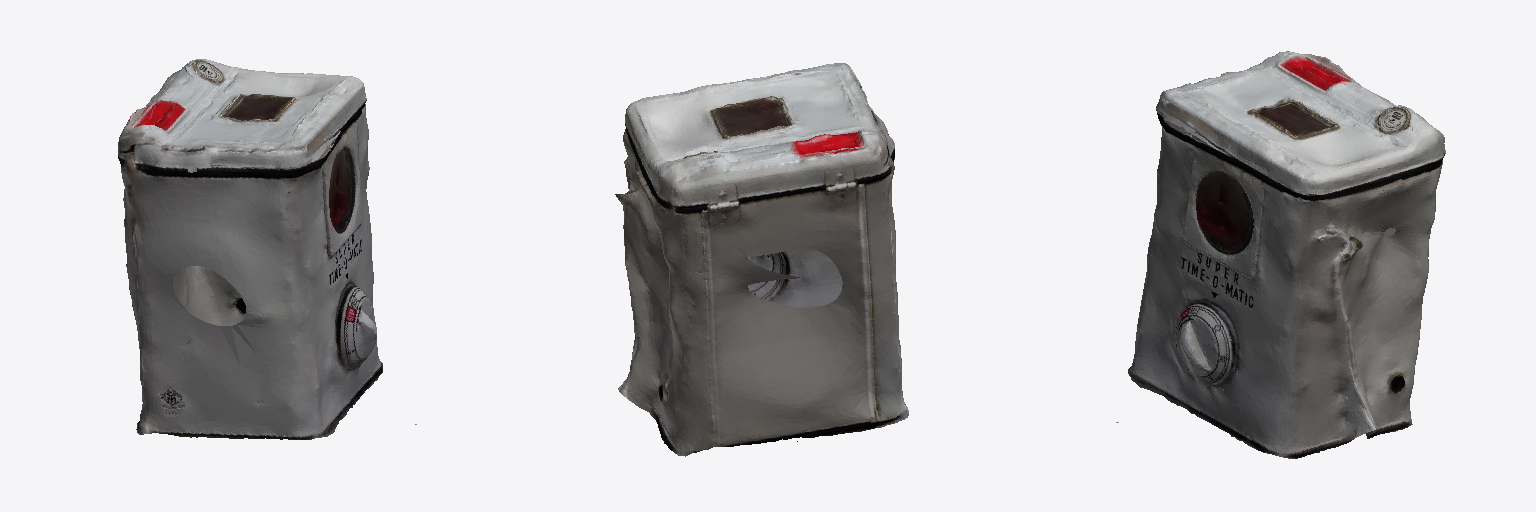
3 views of the same model, side by side, from view 1: azimuth 30°, elevation 25°; view 2: azimuth 150°, elevation 25°; view 3: azimuth 270°, elevation 25° (orthographic).
Bounding box in the file's own units: 12.57 × 14.72 × 14.11.
Materials: 1 (1 with a texture image).